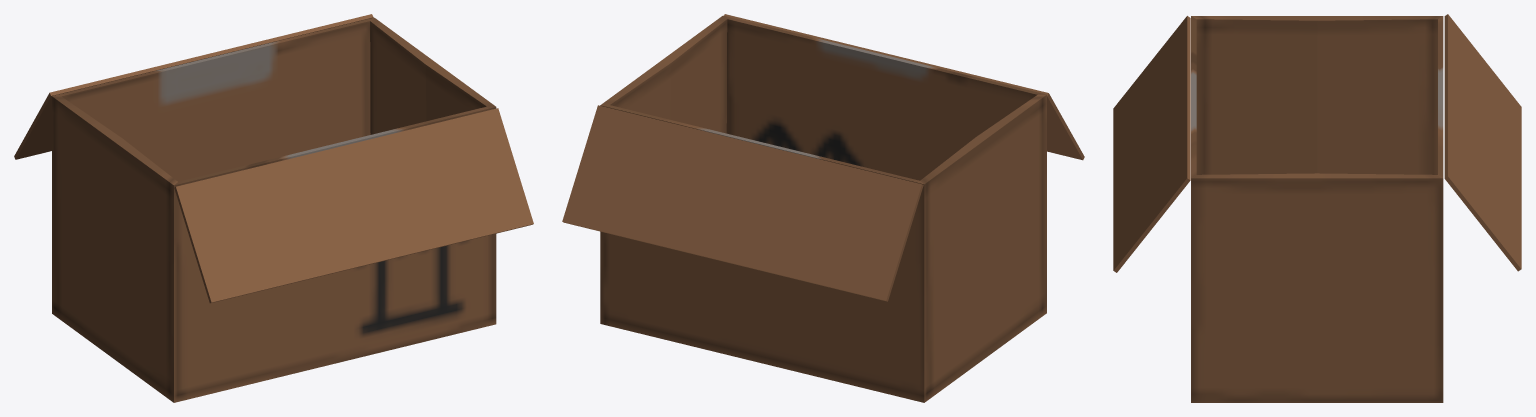
Rendered from CardboardBox_Open.fbx.
3 views of the same model, side by side, from view 1: azimuth 30°, elevation 25°; view 2: azimuth 150°, elevation 25°; view 3: azimuth 270°, elevation 25° (orthographic). The views are drawn at different scales.
Parts seen in each view (by area): view 1: Cardboard Box_Open; view 2: Cardboard Box_Open; view 3: Cardboard Box_Open.
Part boxes in pixels (x1,y1,x2,y2): Cardboard Box_Open: (14,14,533,402); Cardboard Box_Open: (562,14,1084,402); Cardboard Box_Open: (1113,14,1521,402).
Size of the model in its own units: 158 by 168 by 103.
